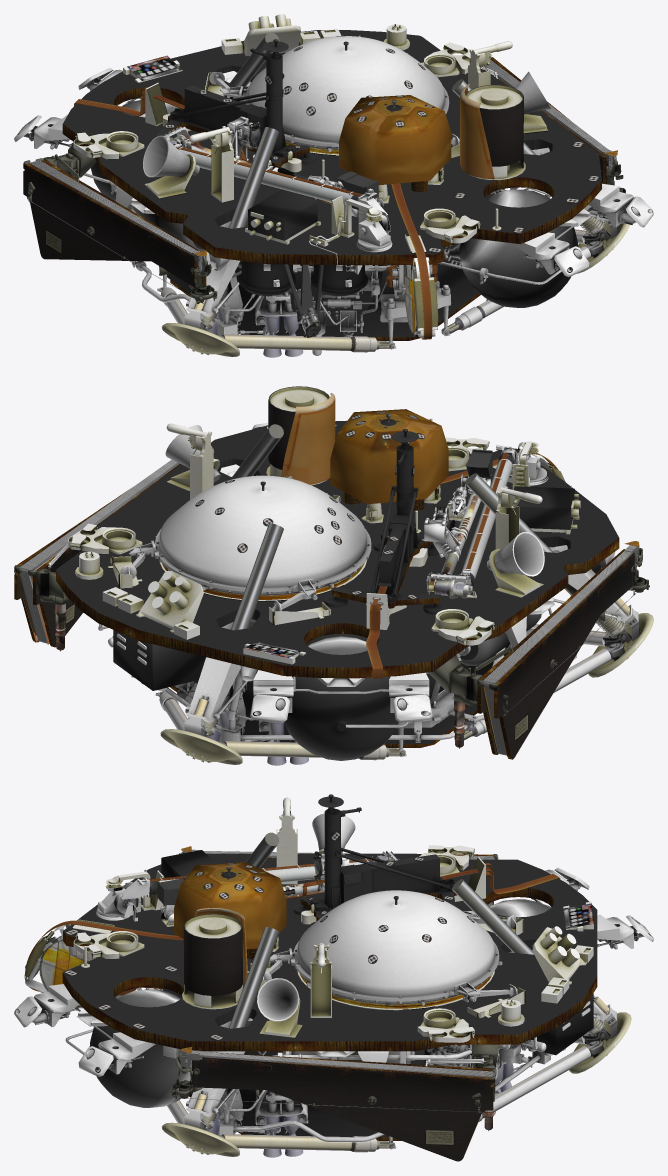
File: InSight Cruise Lander (stowed).glb
The picture shows the model from 3 angles, top to bottom: view 1: azimuth 30°, elevation 25°; view 2: azimuth 150°, elevation 25°; view 3: azimuth 270°, elevation 25°; orthographic projection. The views are drawn at different scales.
Visible parts, largest first — view 1: deck, WTS, panel_l.033, SEIS, UHF_antenna, HP3, RISE_antennas, TWINS, arm_02, Cube.021, leg_b.002, Cube.019 (+10 smaller); view 2: deck, WTS, SEIS, panel_l.033, HP3, UHF_antenna, RISE_antennas, TWINS, arm_02, arm_03, leg_b.000, Cube.004 (+13 smaller); view 3: deck, WTS, Cube.066, HP3, SEIS, UHF_antenna, RISE_antennas, TWINS, Cube.014, arm_02, leg_b.001, Cube.012 (+11 smaller).
Part boxes in pixels (x1=…): deck: x1=14, y1=14, x2=653, y2=357; WTS: x1=219, y1=35, x2=449, y2=151; panel_l.033: x1=23, y1=160, x2=217, y2=303; SEIS: x1=339, y1=95, x2=451, y2=192; UHF_antenna: x1=460, y1=84, x2=525, y2=180; HP3: x1=149, y1=39, x2=316, y2=173; RISE_antennas: x1=143, y1=71, x2=550, y2=198; TWINS: x1=189, y1=41, x2=512, y2=202; arm_02: x1=162, y1=126, x2=388, y2=230; Cube.021: x1=218, y1=334, x2=377, y2=352; leg_b.002: x1=161, y1=310, x2=239, y2=356; Cube.019: x1=203, y1=127, x2=279, y2=329; deck: x1=40, y1=418, x2=631, y2=765; WTS: x1=129, y1=475, x2=371, y2=599; SEIS: x1=330, y1=409, x2=448, y2=511; panel_l.033: x1=489, y1=552, x2=649, y2=759; HP3: x1=324, y1=429, x2=447, y2=614; UHF_antenna: x1=266, y1=386, x2=335, y2=485; RISE_antennas: x1=165, y1=425, x2=544, y2=597; TWINS: x1=166, y1=423, x2=542, y2=549; arm_02: x1=426, y1=444, x2=518, y2=598; arm_03: x1=426, y1=474, x2=490, y2=598; leg_b.000: x1=160, y1=716, x2=242, y2=764; Cube.004: x1=204, y1=523, x2=283, y2=736; deck: x1=14, y1=845, x2=653, y2=1157; WTS: x1=269, y1=890, x2=502, y2=1005; Cube.066: x1=171, y1=1057, x2=495, y2=1161; HP3: x1=293, y1=794, x2=456, y2=926; SEIS: x1=174, y1=862, x2=286, y2=959; UHF_antenna: x1=182, y1=908, x2=247, y2=1009; RISE_antennas: x1=257, y1=813, x2=355, y2=1037; TWINS: x1=276, y1=797, x2=331, y2=1017; Cube.014: x1=218, y1=1134, x2=377, y2=1152; arm_02: x1=114, y1=850, x2=399, y2=913; leg_b.001: x1=161, y1=1110, x2=239, y2=1156; Cube.012: x1=203, y1=927, x2=279, y2=1129.
Bounding box in the file's own units: 1.95 × 1.04 × 2.31.
11 materials, 11 textured.
